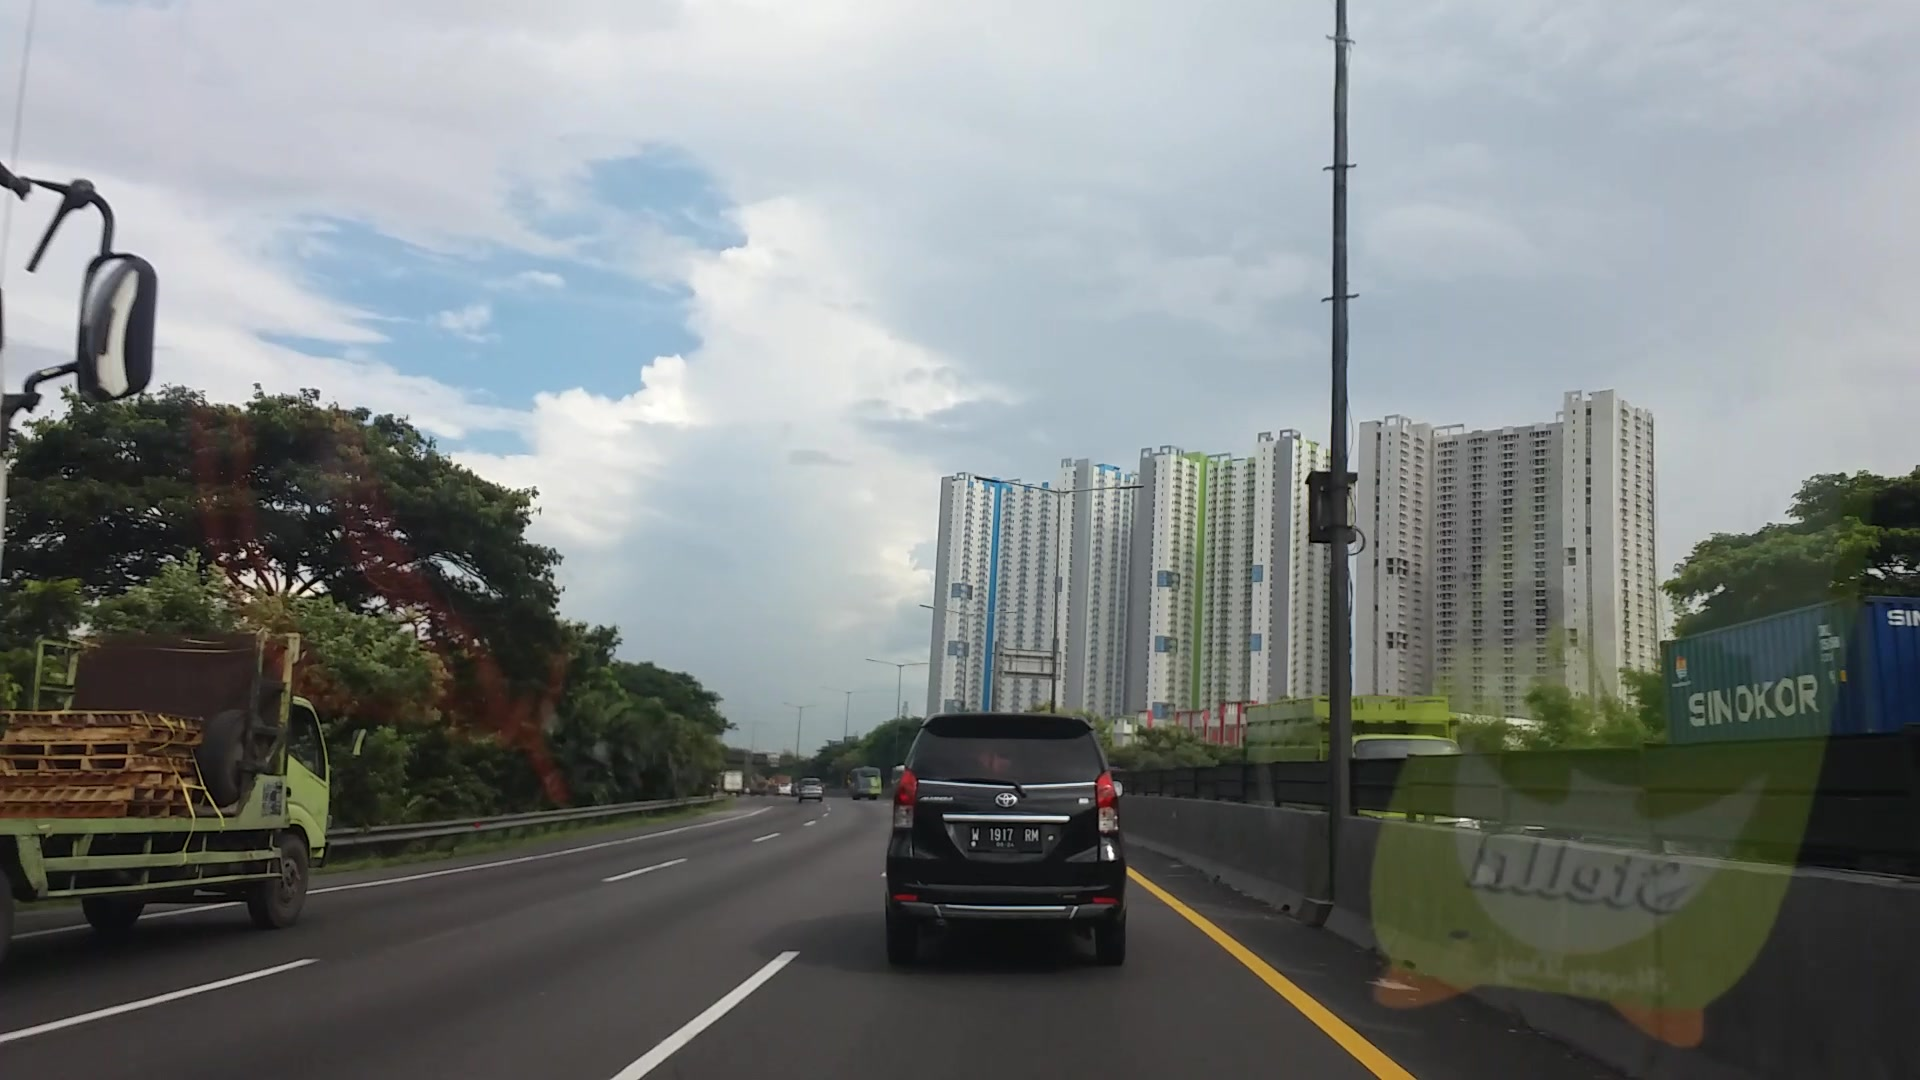plate_positive: (968, 823, 1043, 851)
